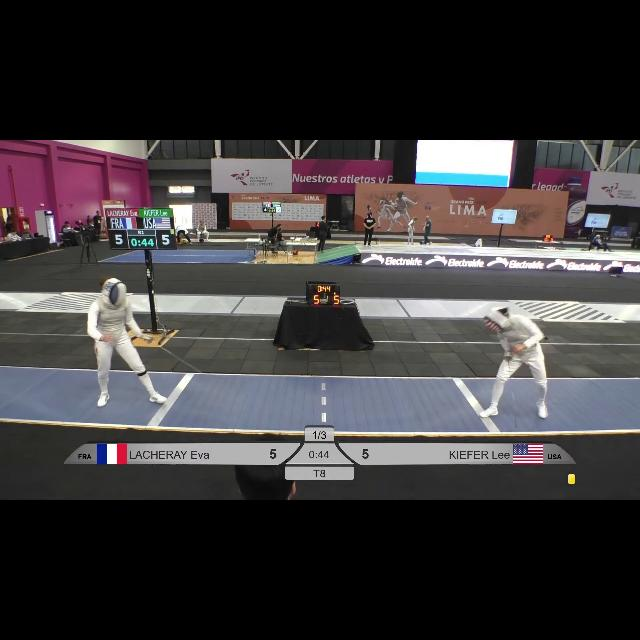blade: (145, 336, 207, 378), (504, 353, 522, 437)
